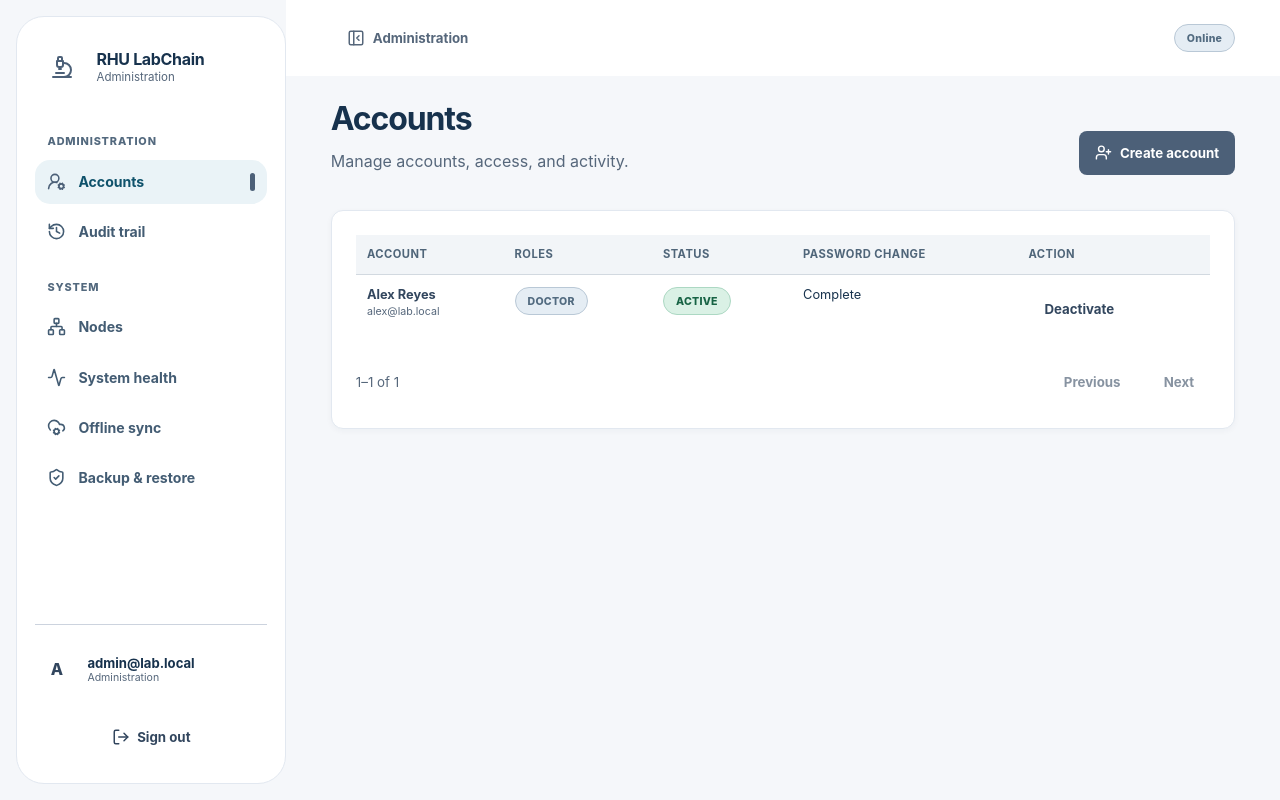
Test case: administration › opens Accounts directly and navigates from an account to its information and trails
The image size is (1280, 800).
Step 1. Click the link "Alex Reyes" → {"x": 401, "y": 295}, box [367,287,436,302]
(page scrolled)
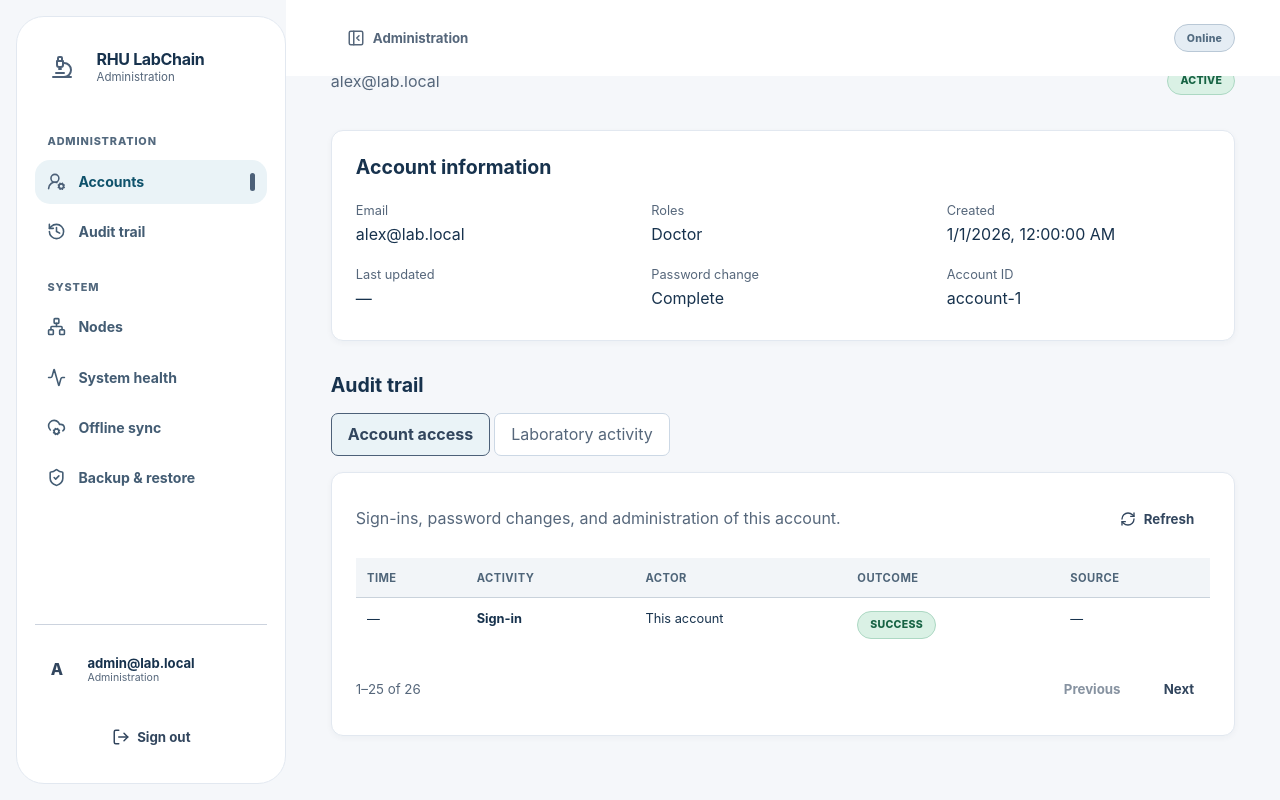
Expected: the link "Nodes" is shown, [47,317,123,336]
Result: the heading "Account information" is shown at [356,155,552,179]
Result: the text "Sign-in" is shown at [477,611,522,626]
Step 2. Click the button "Next" → {"x": 1179, "y": 689}, box [1148,667,1210,711]
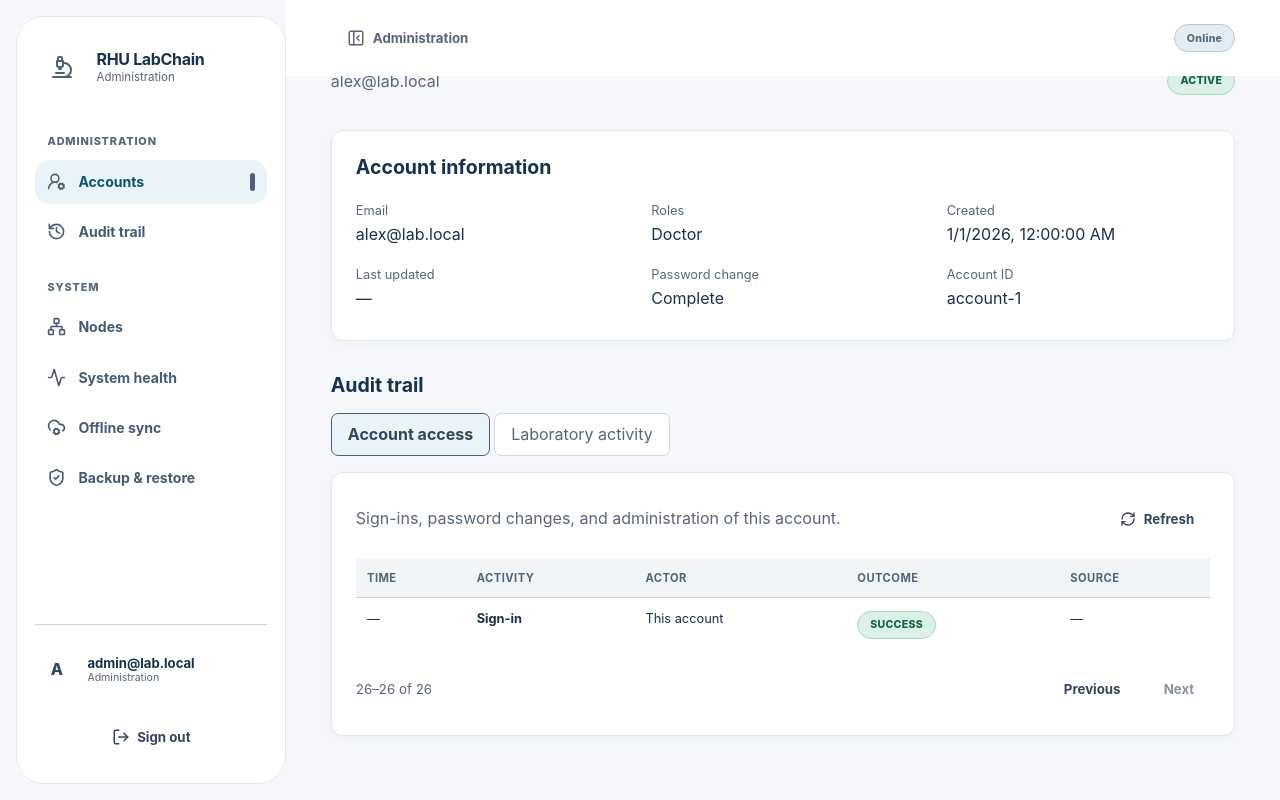
Result: the text "26–26 of 26" is shown at [356,681,432,697]
Step 3. Click the button "Laboratory activity" → {"x": 582, "y": 434}, box [494,413,670,456]
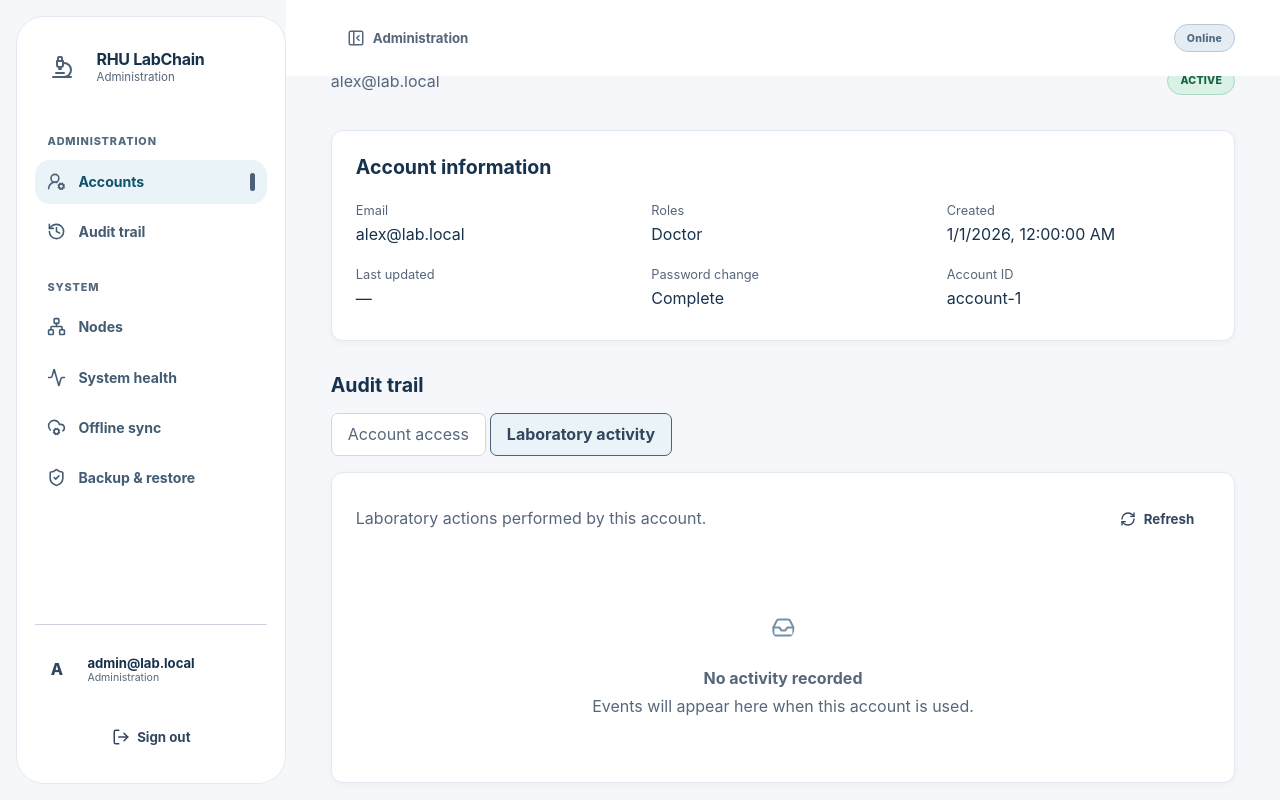
Result: the heading "No activity recorded" is shown at [704,668,862,688]
